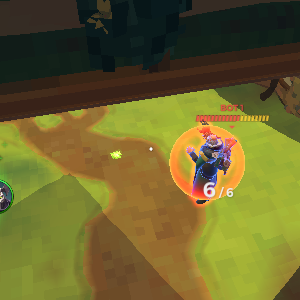model: (189, 127, 226, 204)
